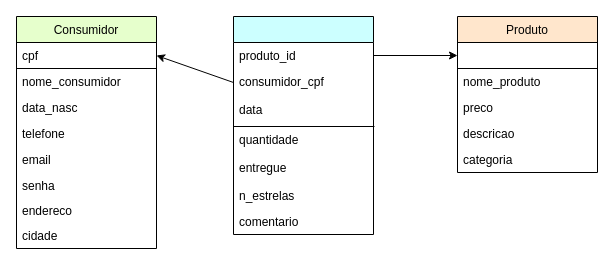
The diagram is 614 pixels wide and 265 high, and some of its shapes have lost their labels. The box of each missing label's shape, as (x1, y1, x2, y2) in pixels:
Compra: (232, 16, 374, 234)
id: (456, 42, 598, 68)
